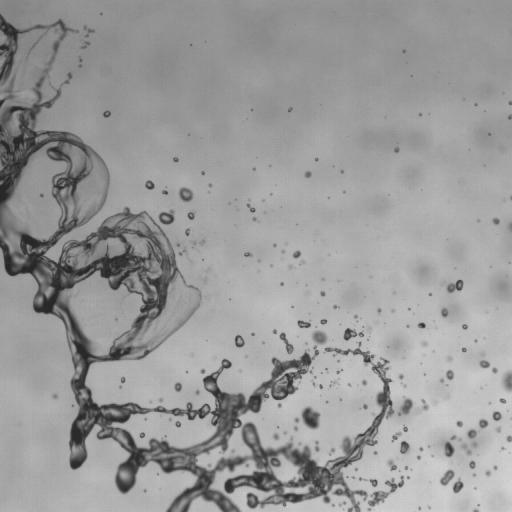droplet: (294, 406, 319, 429), (158, 209, 174, 224), (440, 469, 454, 485), (178, 187, 193, 201), (446, 280, 463, 292), (400, 397, 412, 414), (444, 441, 454, 457), (452, 479, 463, 493), (419, 399, 428, 412), (387, 459, 397, 470), (235, 335, 244, 347), (400, 441, 409, 453), (297, 320, 310, 327), (478, 419, 488, 428), (84, 27, 93, 36), (145, 180, 154, 189), (492, 411, 501, 420), (467, 429, 476, 438), (479, 360, 489, 367), (446, 370, 453, 379), (174, 382, 181, 391), (293, 250, 300, 258), (369, 479, 377, 486), (441, 308, 447, 317), (103, 110, 110, 117), (187, 212, 194, 219), (304, 171, 311, 177), (492, 218, 499, 224), (418, 322, 425, 328), (469, 461, 475, 468), (456, 421, 462, 427), (506, 435, 511, 442), (320, 319, 326, 324), (492, 367, 497, 373), (499, 398, 505, 403), (175, 421, 180, 427), (273, 434, 279, 439), (329, 448, 334, 454), (485, 470, 490, 476), (244, 252, 251, 256), (173, 157, 178, 162), (320, 291, 325, 296), (462, 324, 467, 329), (398, 374, 403, 379), (362, 380, 367, 385), (139, 432, 144, 437), (185, 229, 189, 235), (394, 147, 398, 152), (162, 190, 167, 194), (422, 341, 426, 346), (121, 377, 125, 382), (52, 394, 57, 398), (363, 404, 367, 409), (403, 426, 407, 431), (496, 427, 500, 432), (451, 435, 456, 439), (462, 347, 466, 351), (200, 369, 204, 373), (277, 403, 281, 407), (493, 465, 497, 469), (508, 114, 511, 119), (331, 381, 336, 384), (333, 305, 337, 308), (377, 309, 381, 312), (336, 370, 340, 373), (196, 390, 199, 394), (294, 426, 297, 430), (419, 447, 422, 451), (253, 217, 256, 220), (192, 241, 195, 244), (200, 241, 203, 244), (273, 330, 276, 333), (448, 357, 451, 360), (311, 381, 314, 384), (319, 385, 322, 388), (473, 443, 476, 446), (509, 101, 511, 104), (40, 194, 43, 196), (177, 243, 179, 246), (354, 315, 357, 317), (440, 379, 443, 381), (159, 399, 162, 401), (374, 451, 376, 454), (417, 456, 420, 458), (360, 478, 363, 480), (289, 108, 291, 110), (315, 158, 317, 160), (201, 172, 203, 174), (208, 184, 210, 186), (502, 447, 504, 449), (473, 473, 475, 475), (407, 477, 409, 479)
ligament: (0, 14, 404, 511), (279, 332, 293, 353), (343, 328, 363, 340), (502, 370, 511, 391), (461, 443, 471, 454), (392, 432, 401, 441), (64, 73, 71, 83), (247, 204, 255, 212), (179, 248, 186, 255), (315, 441, 319, 451), (82, 42, 88, 48), (339, 501, 345, 505), (509, 223, 511, 230), (472, 509, 478, 511)
